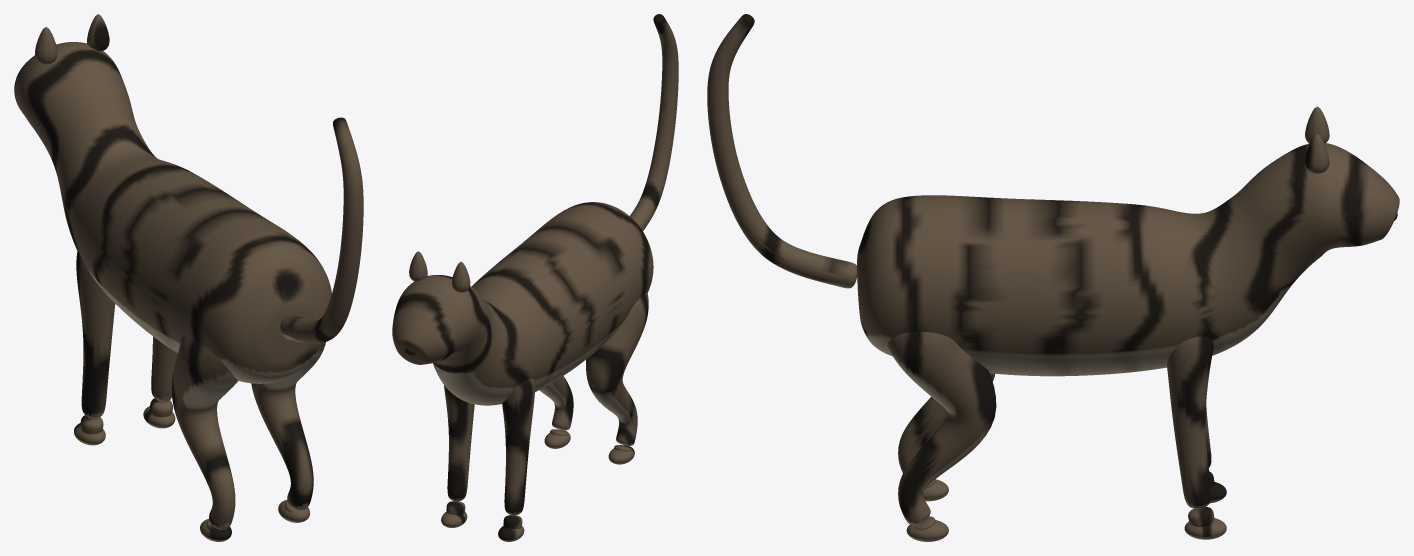
Rendered from cat_tabby_standing.gltf.
3 views of the same model, side by side, from view 1: azimuth 30°, elevation 25°; view 2: azimuth 150°, elevation 25°; view 3: azimuth 270°, elevation 25° (orthographic). The views are drawn at different scales.
Parts seen in each view (by area): view 1: cat; view 2: cat; view 3: cat.
Boxes of the visible parts, x1,y1,x2,y2 form: cat: (14, 14, 363, 541); cat: (392, 14, 678, 541); cat: (707, 14, 1399, 541).
Bounding box in the file's own units: 0.156 × 0.5211 × 0.6479.
